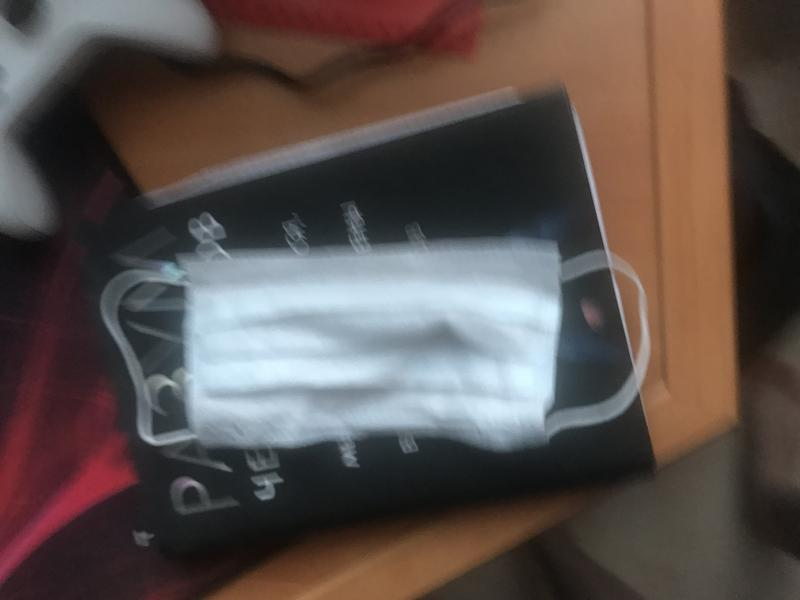medical_mask: (101, 245, 649, 448)
